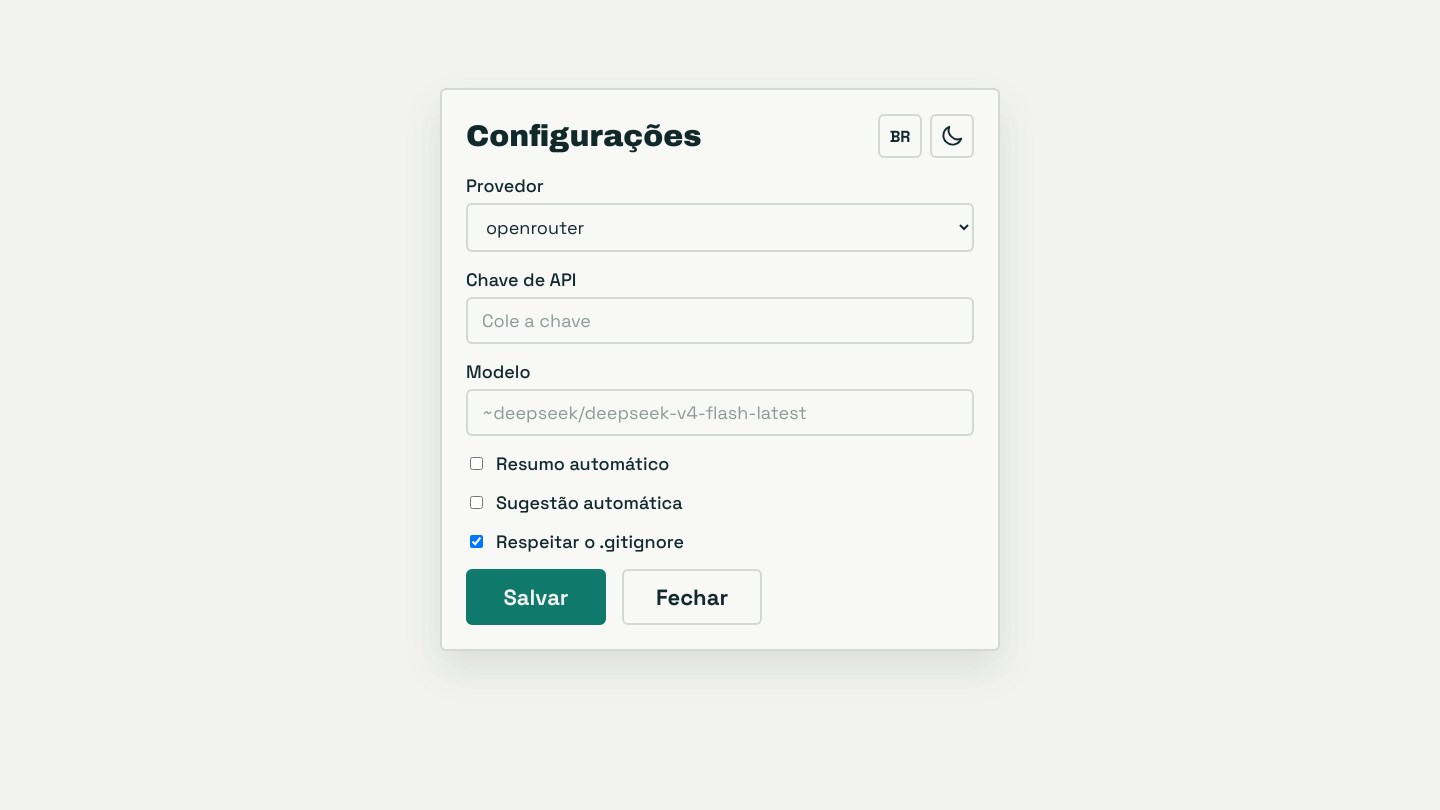
Test: SettingsDialog theme button › goes from dark back to the system's
Step 1. Click the button named "Tema: Escuro" → (952, 136), box [930, 114, 974, 158]
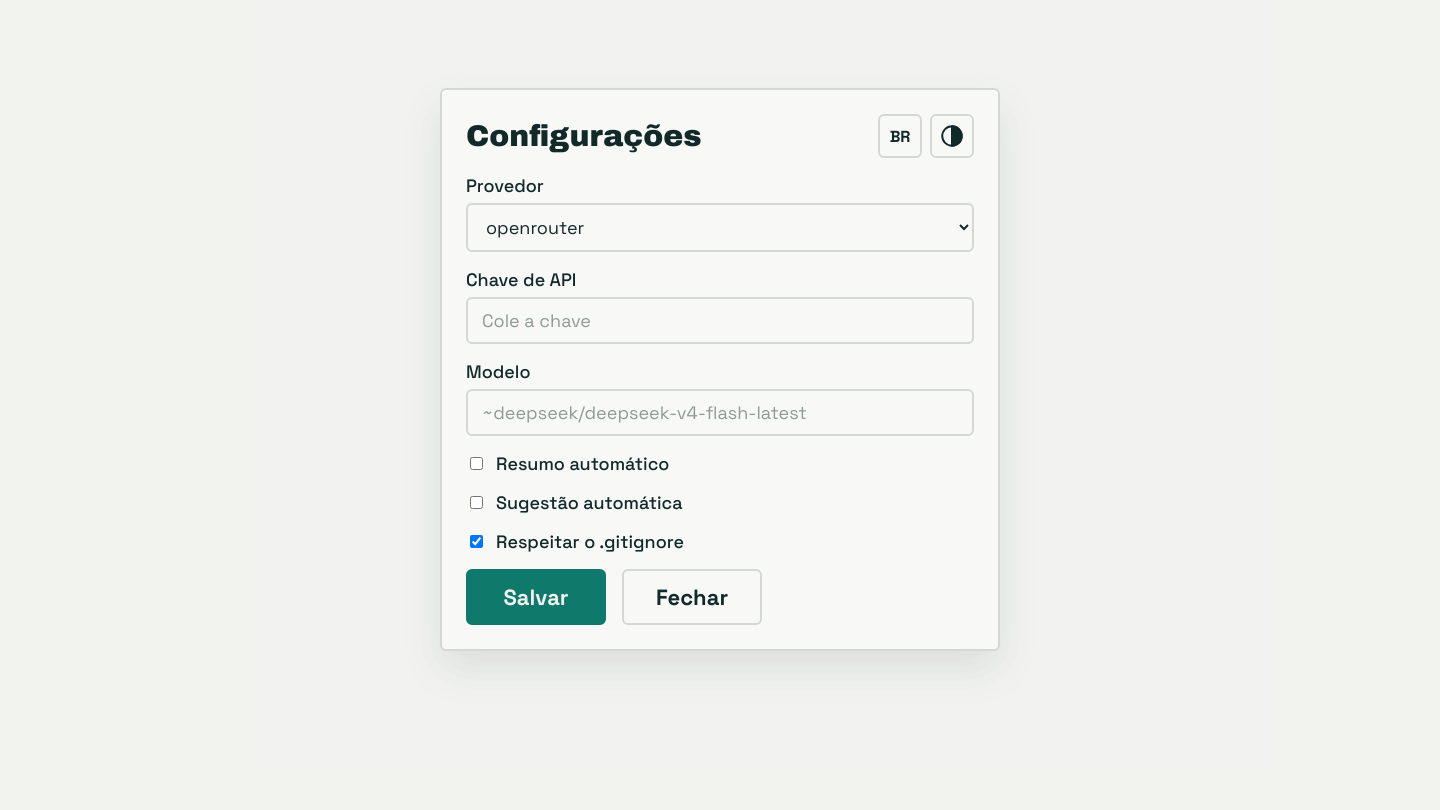
Check: the button named "Tema: Seguir o sistema" is shown, box [930, 114, 974, 158]
